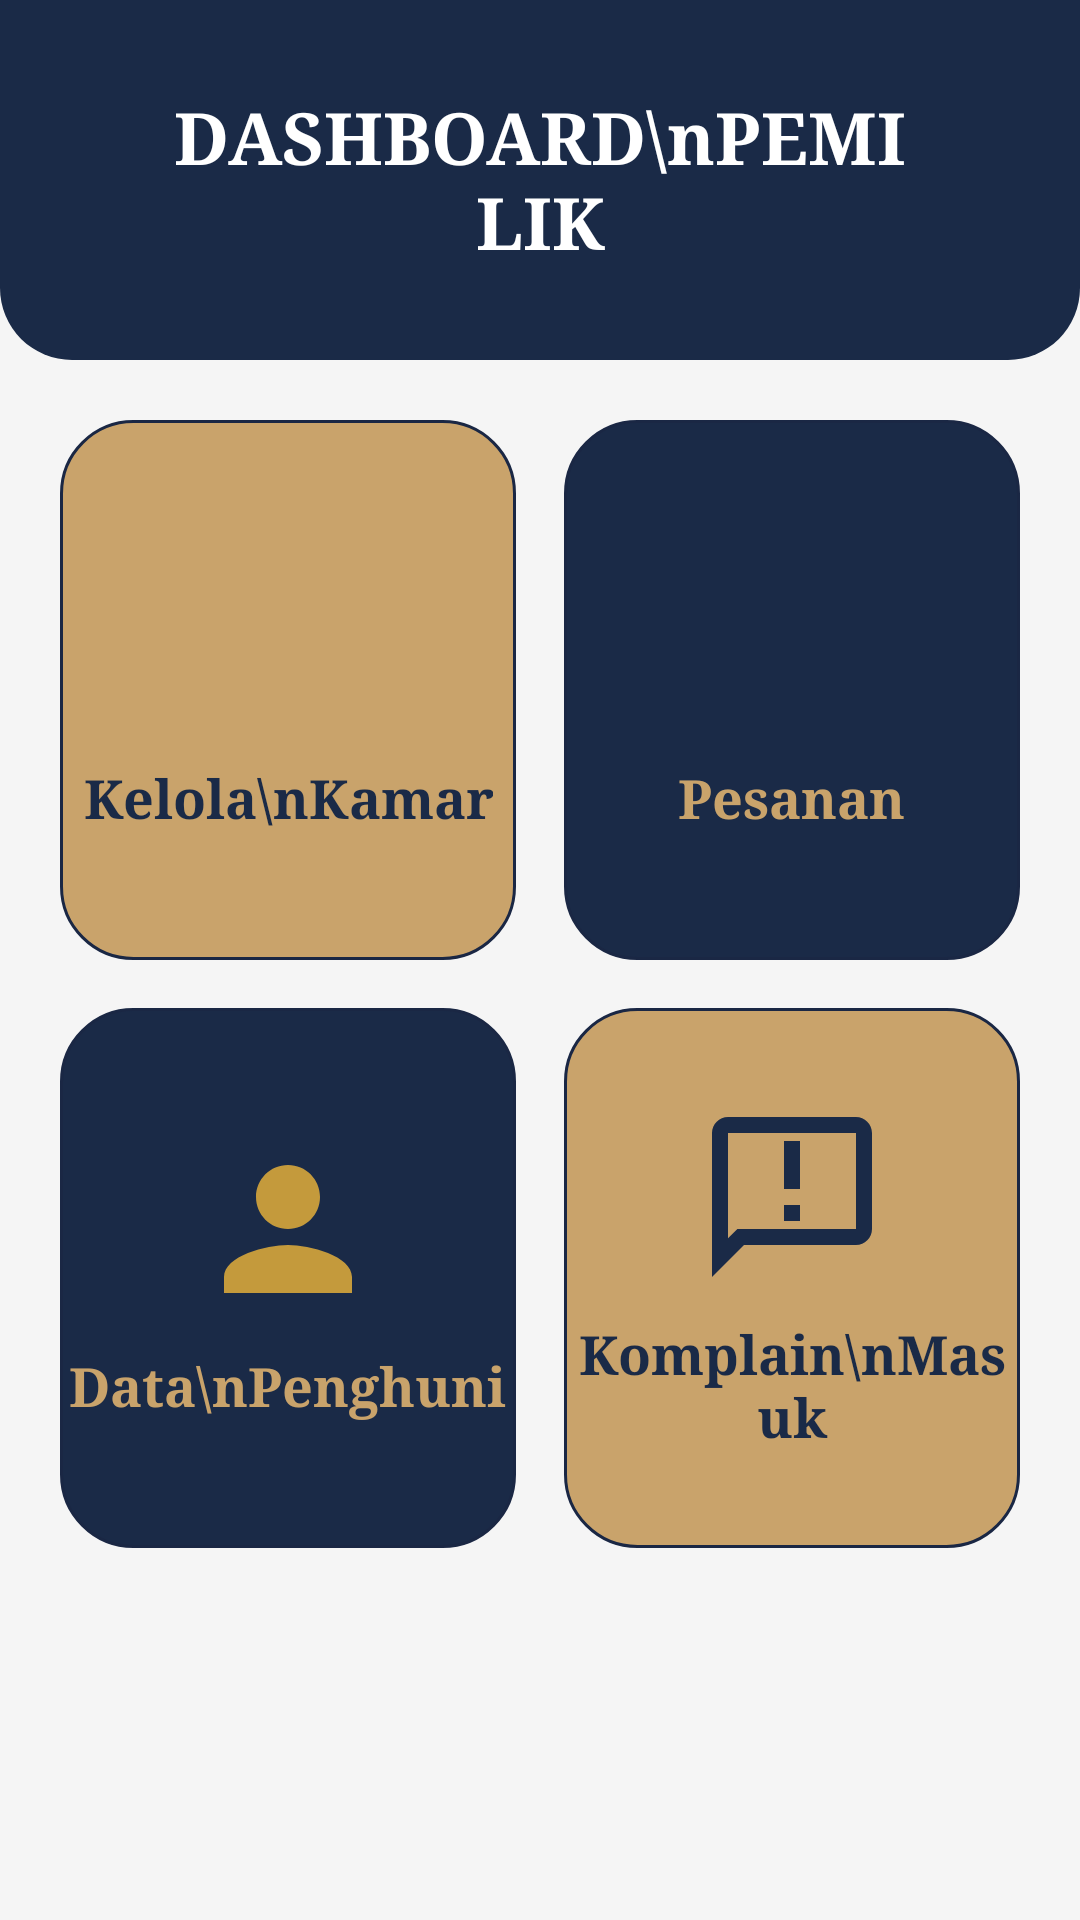

Screen size 1080×1920. Icon name, then its box in pixels as box(x1, y1, x2, y2):
person gold: box(224, 1165, 352, 1293)
